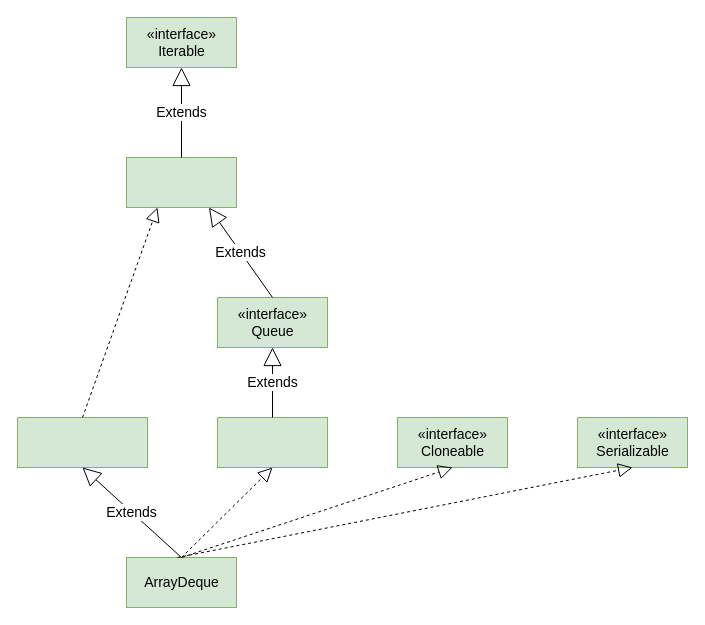
The diagram is 705 pixels wide and 625 high, and some of its shapes have lost their labels. Each missing label, with the centre of its shape:
"AbstractCollection" goes at [82,442].
"«interface» Collection" goes at [181,182].
"«interface» Deque" goes at [272,442].
